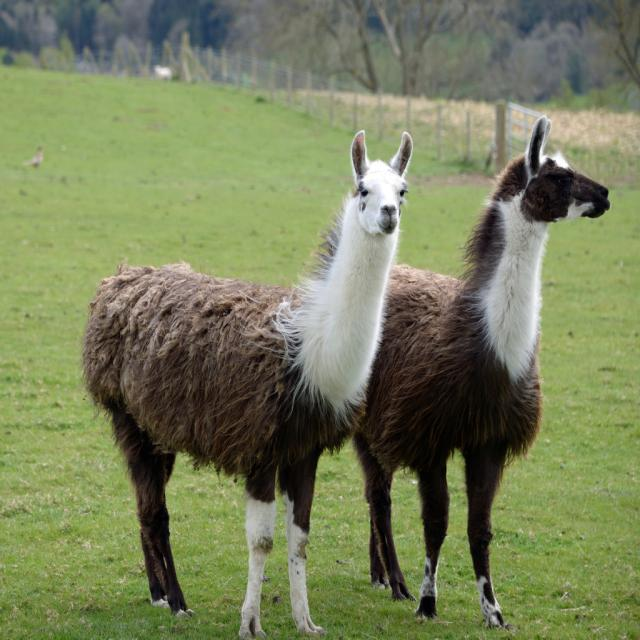alpaca: (86, 130, 412, 640), (344, 116, 612, 626)
